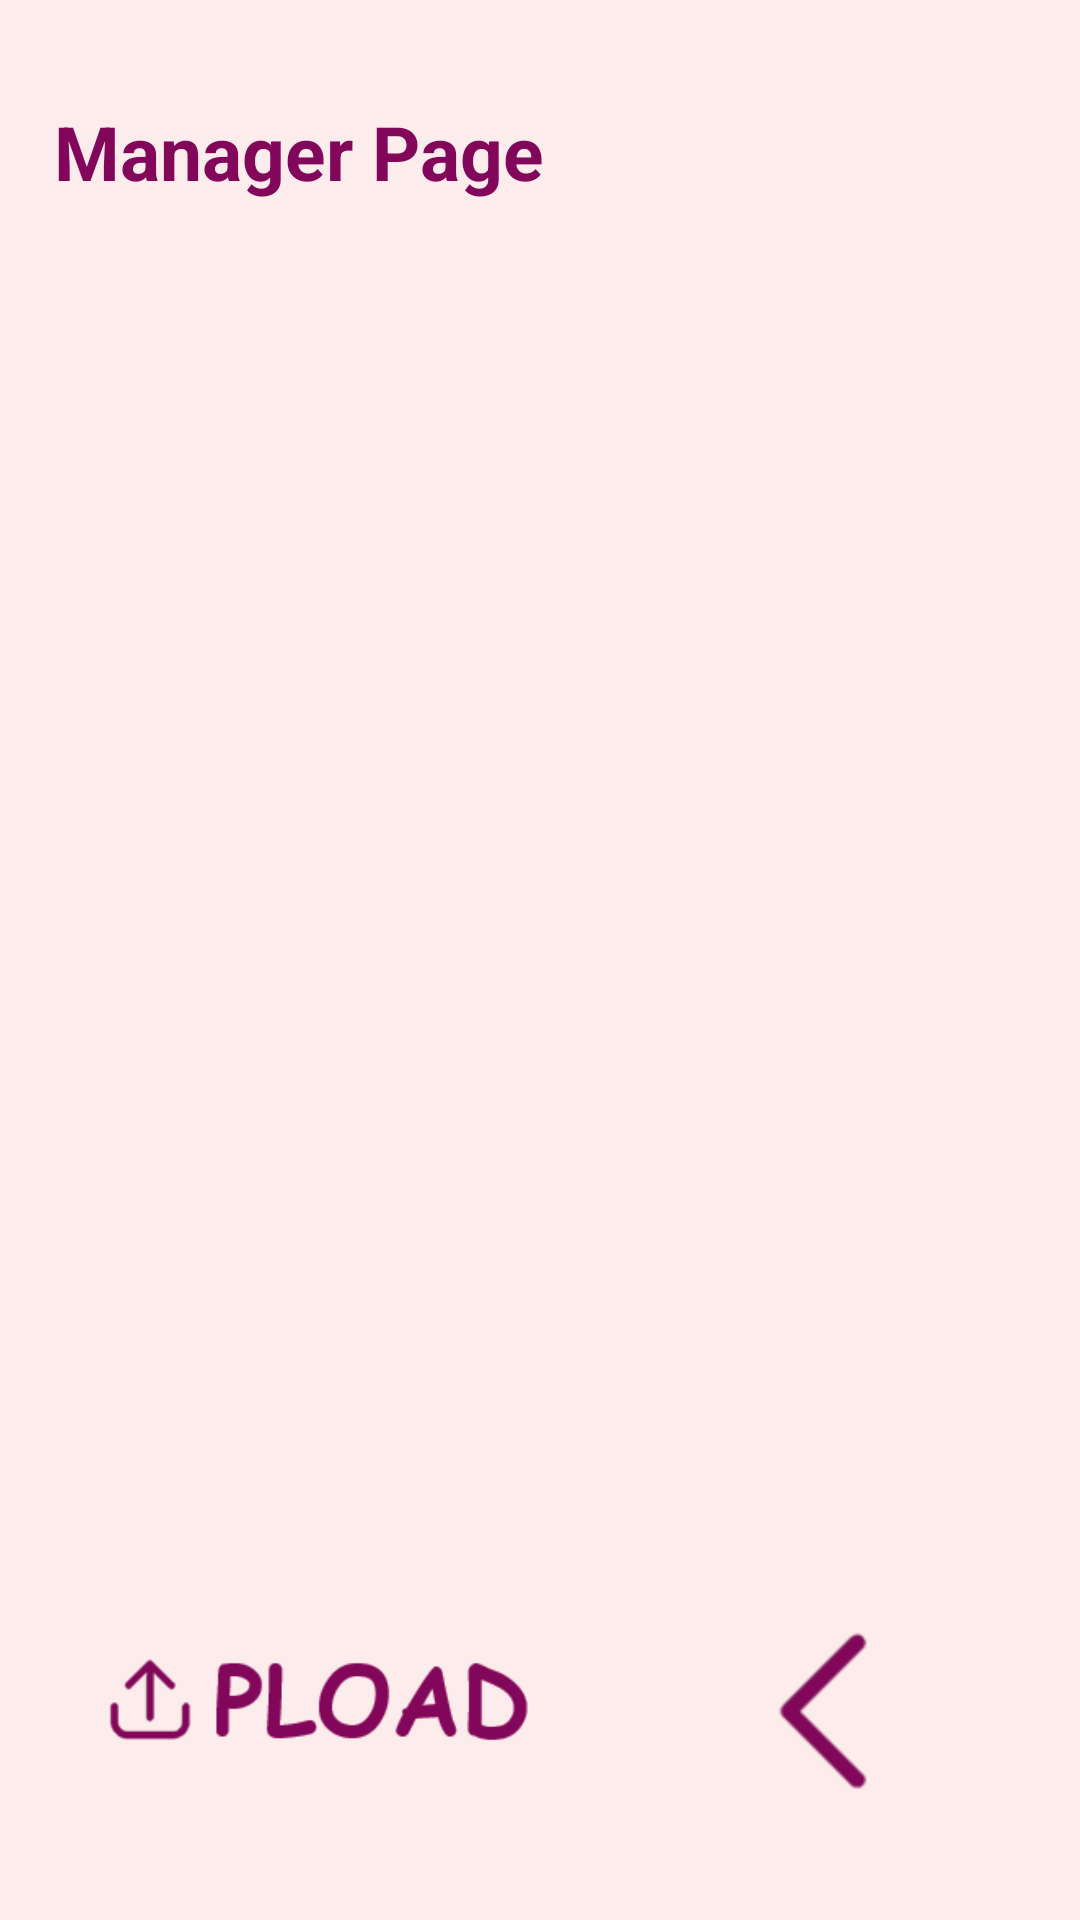

Named icons in this screenshot (1080w x 1920h) and their centers, (x,y):
back: (823,1711)
